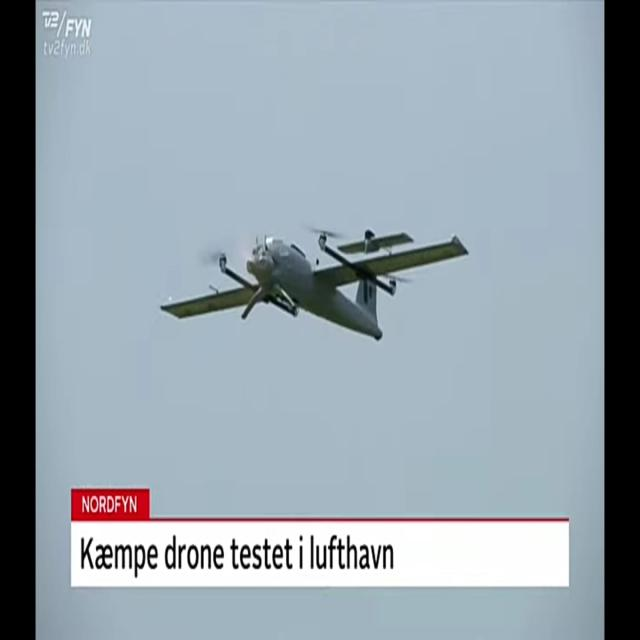iha: (159, 253, 471, 309)
